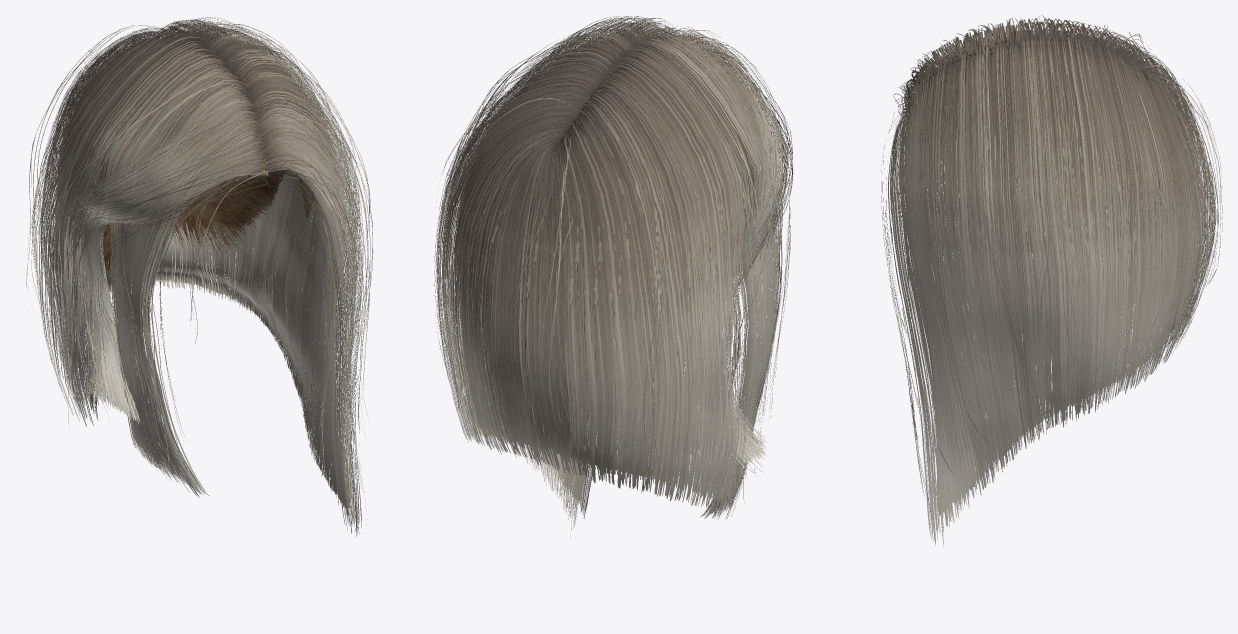
File: dint_hair_14.glb
3 views of the same model, side by side, from view 1: azimuth 30°, elevation 25°; view 2: azimuth 150°, elevation 25°; view 3: azimuth 270°, elevation 25° (orthographic). The views are drawn at different scales.
Visible parts, largest first — view 1: a2_2_a2_2, a0_1R_a0_1R, a4_2_a4_2, a5_2_a5_2, a2_1R_a2_1R, a5_1_a5_1, a3_1L_a3_1L, a4_1R_a4_1R, a3_1R_a3_1R, a1_1R_a1_1R, a4_1L_a4_1L, a1_2_a1_2 (+4 smaller); view 2: a3_1L_a3_1L, a2_1L_a2_1L, a4_1L_a4_1L, a3_1R_a3_1R, a4_1R_a4_1R, a2_1R_a2_1R, a2_2_a2_2, a5_1_a5_1, a1_1L_a1_1L, a4_2_a4_2, a5_2_a5_2, a1_2_a1_2 (+3 smaller); view 3: a3_1R_a3_1R, a4_1R_a4_1R, a2_1R_a2_1R, a5_1_a5_1, a1_1R_a1_1R, a3_1L_a3_1L, a0_1R_a0_1R, a2_2_a2_2, a2_1L_a2_1L, a4_1L_a4_1L, a4_2_a4_2, a1_2_a1_2.
Boxes of the visible parts, <box> form: a2_2_a2_2: <box>72,51,265,483</box>; a0_1R_a0_1R: <box>143,41,346,509</box>; a4_2_a4_2: <box>71,48,264,497</box>; a5_2_a5_2: <box>59,65,270,477</box>; a2_1R_a2_1R: <box>158,30,355,529</box>; a5_1_a5_1: <box>26,17,373,519</box>; a3_1L_a3_1L: <box>40,31,210,425</box>; a4_1R_a4_1R: <box>127,19,362,528</box>; a3_1R_a3_1R: <box>114,23,359,536</box>; a1_1R_a1_1R: <box>147,36,347,513</box>; a4_1L_a4_1L: <box>32,28,201,426</box>; a1_2_a1_2: <box>87,58,263,495</box>; a3_1L_a3_1L: <box>543,43,754,519</box>; a2_1L_a2_1L: <box>528,51,753,509</box>; a4_1L_a4_1L: <box>542,39,755,520</box>; a3_1R_a3_1R: <box>442,22,676,536</box>; a4_1R_a4_1R: <box>434,17,687,519</box>; a2_1R_a2_1R: <box>454,30,674,518</box>; a2_2_a2_2: <box>639,34,783,514</box>; a5_1_a5_1: <box>433,16,780,511</box>; a1_1L_a1_1L: <box>531,58,743,503</box>; a4_2_a4_2: <box>642,30,787,518</box>; a5_2_a5_2: <box>653,26,793,501</box>; a1_2_a1_2: <box>638,46,775,518</box>; a3_1R_a3_1R: <box>891,38,1215,546</box>; a4_1R_a4_1R: <box>888,35,1218,536</box>; a2_1R_a2_1R: <box>892,44,1204,532</box>; a5_1_a5_1: <box>881,15,1222,532</box>; a1_1R_a1_1R: <box>907,50,1198,518</box>; a3_1L_a3_1L: <box>1023,21,1212,299</box>; a0_1R_a0_1R: <box>921,55,1179,502</box>; a2_2_a2_2: <box>904,23,1025,106</box>; a2_1L_a2_1L: <box>1024,29,1205,313</box>; a4_1L_a4_1L: <box>1023,18,1214,319</box>; a4_2_a4_2: <box>904,20,1023,332</box>; a1_2_a1_2: <box>915,34,1030,416</box>.
Bounding box in the file's own units: 0.2486 × 0.4168 × 0.2391.
Materials: 16 (16 with a texture image).
